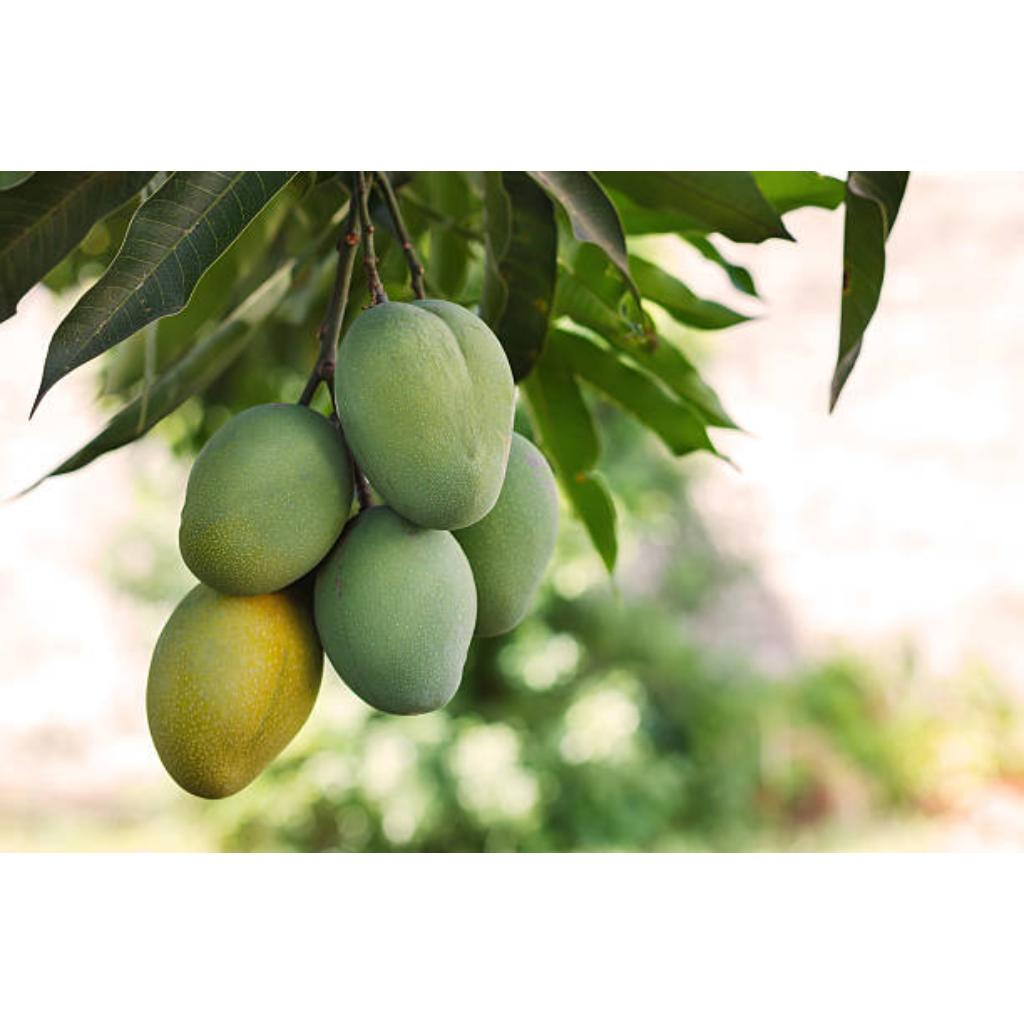mango: (146, 579, 324, 798), (314, 507, 476, 715), (180, 405, 350, 595), (454, 433, 558, 636)
